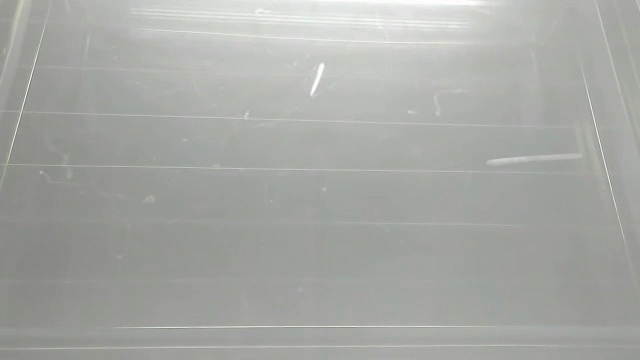alpha: (482, 151, 584, 169), (306, 60, 331, 100)
